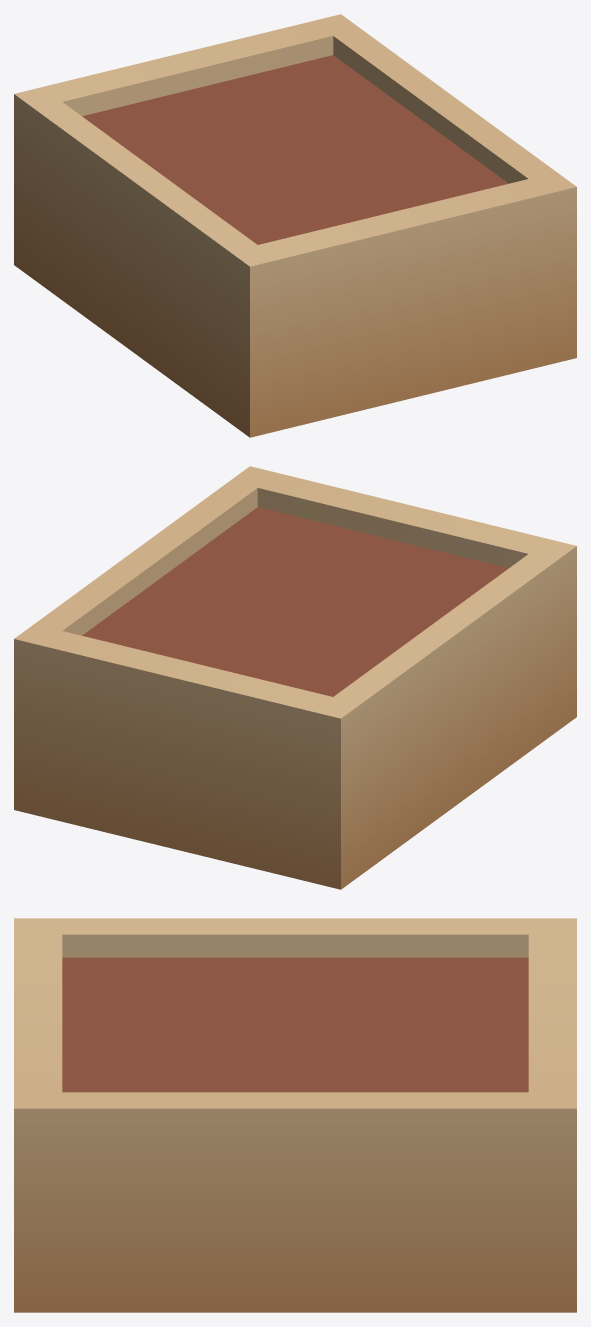
The model's file is SmallHouse02.fbx.
3 renders of one model, top to bottom at view 1: azimuth 30°, elevation 25°; view 2: azimuth 150°, elevation 25°; view 3: azimuth 270°, elevation 25°, orthographic. The views are drawn at different scales.
Visible parts, largest first — view 1: SmallHouse02; view 2: SmallHouse02; view 3: SmallHouse02.
Boxes of the visible parts, <box> form: SmallHouse02: <box>14,14,576,437</box>; SmallHouse02: <box>14,466,576,889</box>; SmallHouse02: <box>14,918,576,1312</box>.
Size of the model in its own units: 2 by 1 by 2.5.
Materials: 1 (1 with a texture image).
